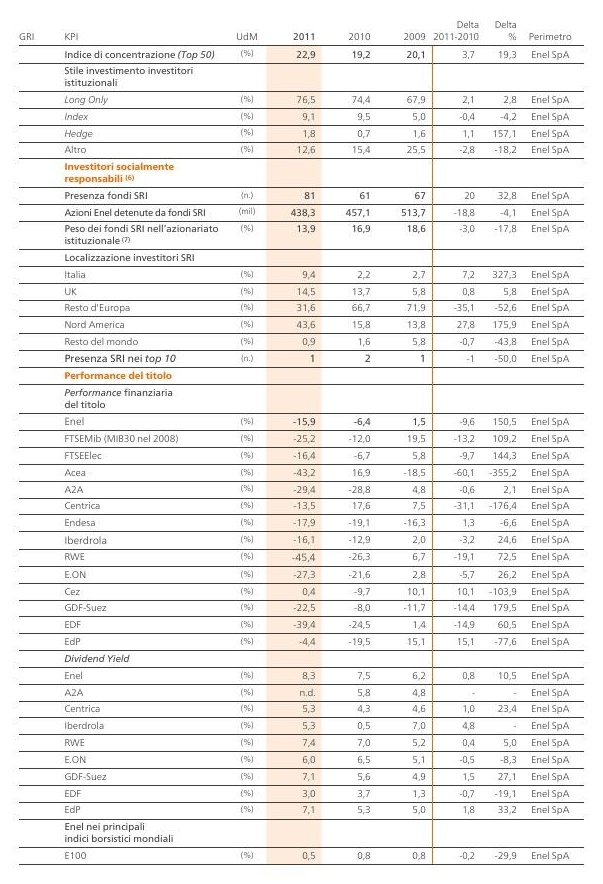table: (0, 0, 603, 884)
